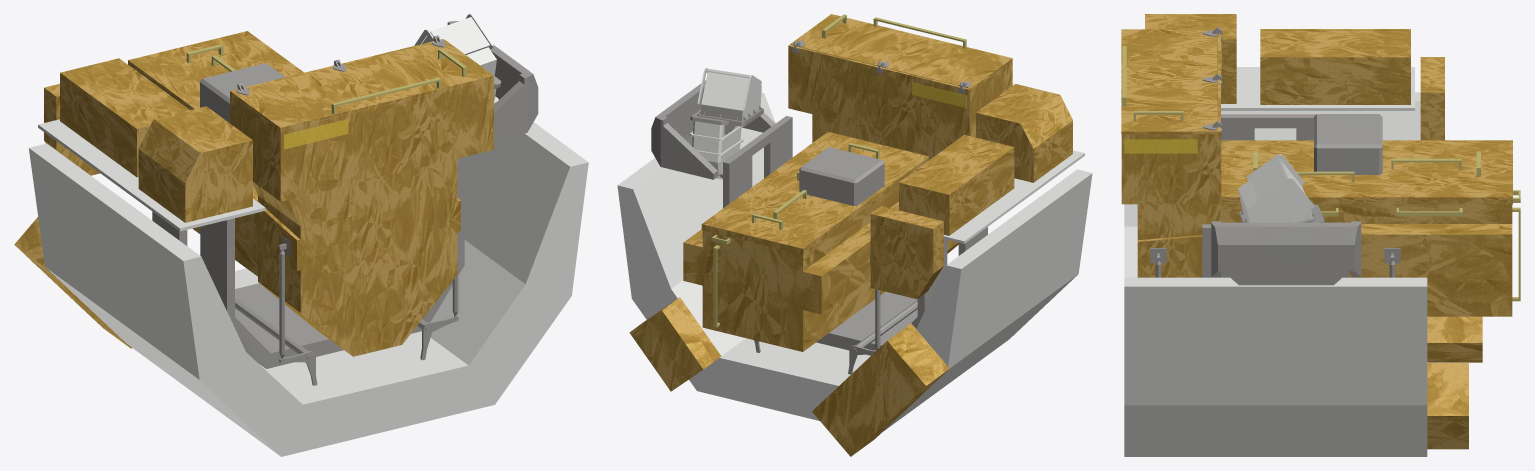
Rendered from orbital-replacement-unit.glb.
3 views of the same model, side by side, from view 1: azimuth 30°, elevation 25°; view 2: azimuth 150°, elevation 25°; view 3: azimuth 270°, elevation 25° (orthographic). The views are drawn at different scales.
Visible parts, largest first — view 1: spaceshutt; view 2: spaceshutt; view 3: spaceshutt.
Part boxes in pixels (box(x1,y1,x2,y2)): spaceshutt: box(14, 14, 588, 456); spaceshutt: box(617, 14, 1092, 456); spaceshutt: box(1121, 14, 1520, 456).
Bounding box in the file's own units: 174 × 141 × 151.
4 materials, 4 textured.
